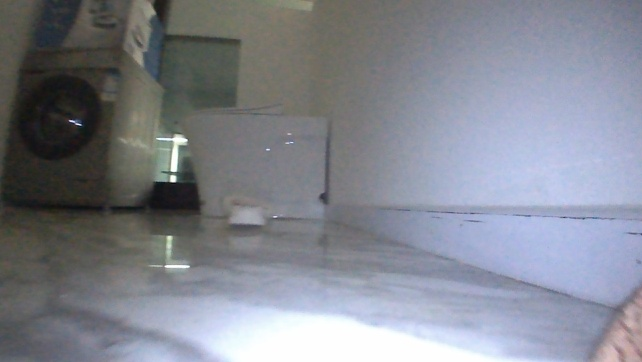toilet: (173, 100, 344, 229)
washing_machine: (2, 39, 161, 215)
